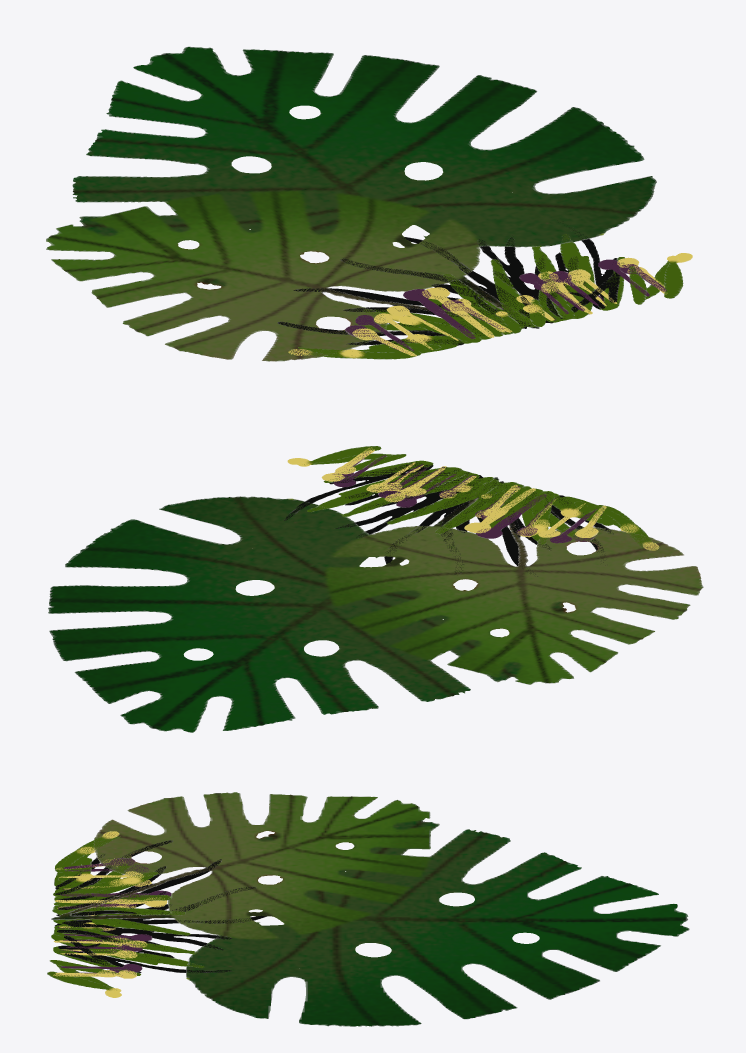
File: Tierra3.fbx
3 renders of one model, top to bottom at view 1: azimuth 30°, elevation 25°; view 2: azimuth 150°, elevation 25°; view 3: azimuth 270°, elevation 25°, orthographic. The views are drawn at different scales.
Visible parts, largest first — view 1: Plane.010, Plane.007, Plane.009, Plane.006, Plane.004, Plane.001, Plane.008, Plane.002, Plane, Plane.003; view 2: Plane.010, Plane.007, Plane.009, Plane.006, Plane.004, Plane.001, Plane, Plane.008, Plane.003, Plane.005; view 3: Plane.010, Plane.007, Plane.009, Plane.006, Plane.008, Plane.001, Plane.004, Plane.002, Plane.
Boxes of the visible parts, bbox=[...] form: Plane.010: bbox=[46, 46, 656, 361]; Plane.007: bbox=[288, 234, 692, 358]; Plane.009: bbox=[277, 227, 617, 345]; Plane.006: bbox=[298, 255, 683, 359]; Plane.004: bbox=[355, 259, 649, 351]; Plane.001: bbox=[374, 257, 667, 349]; Plane.008: bbox=[364, 263, 624, 345]; Plane.002: bbox=[345, 264, 666, 352]; Plane: bbox=[352, 267, 664, 356]; Plane.003: bbox=[386, 278, 606, 340]; Plane.010: bbox=[48, 477, 703, 732]; Plane.007: bbox=[287, 453, 659, 550]; Plane.009: bbox=[284, 462, 613, 576]; Plane.006: bbox=[298, 446, 643, 549]; Plane.004: bbox=[333, 455, 596, 543]; Plane.001: bbox=[321, 449, 585, 537]; Plane: bbox=[335, 447, 606, 537]; Plane.008: bbox=[335, 463, 583, 537]; Plane.003: bbox=[383, 465, 555, 537]; Plane.005: bbox=[384, 463, 555, 535]; Plane.010: bbox=[51, 792, 689, 1026]; Plane.007: bbox=[51, 831, 204, 997]; Plane.009: bbox=[55, 840, 267, 973]; Plane.006: bbox=[47, 836, 151, 992]; Plane.008: bbox=[54, 862, 154, 966]; Plane.001: bbox=[55, 871, 167, 978]; Plane.004: bbox=[60, 865, 171, 972]; Plane.002: bbox=[63, 857, 137, 976]; Plane: bbox=[53, 858, 129, 977].
Bounding box in the file's own units: 42.41 × 7.94e-06 × 48.71.
